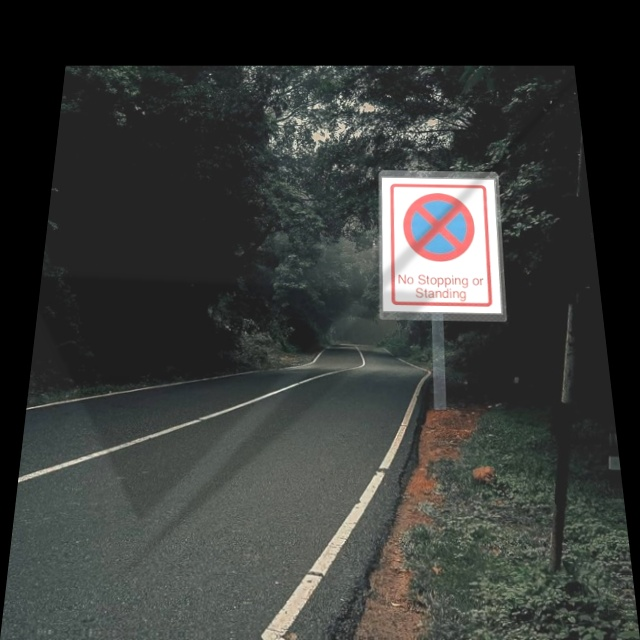No_Stopping_or_Standing: (393, 187, 486, 271)
